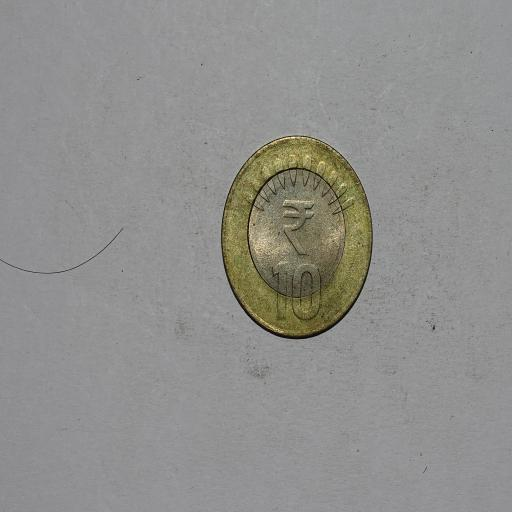rupee10: (221, 130, 374, 344)
